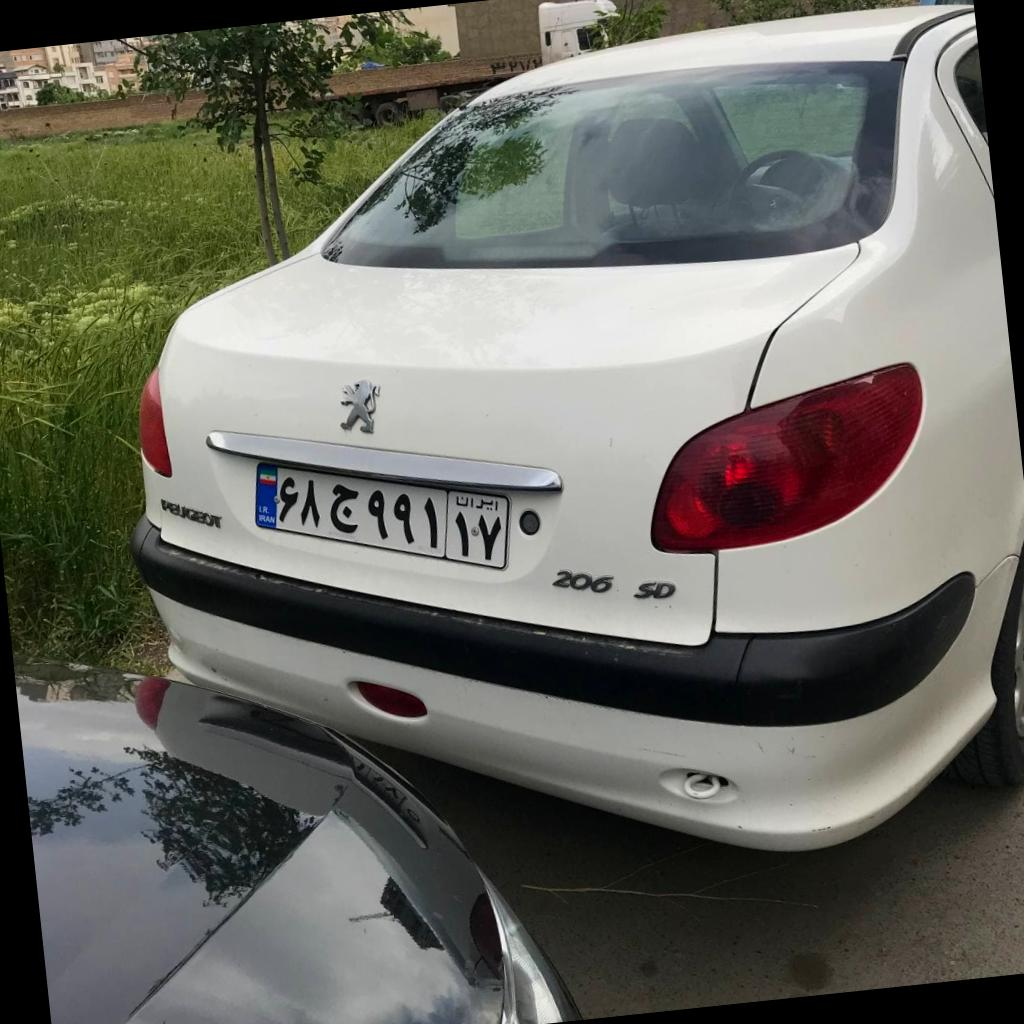Plates: (252, 461, 512, 571)
